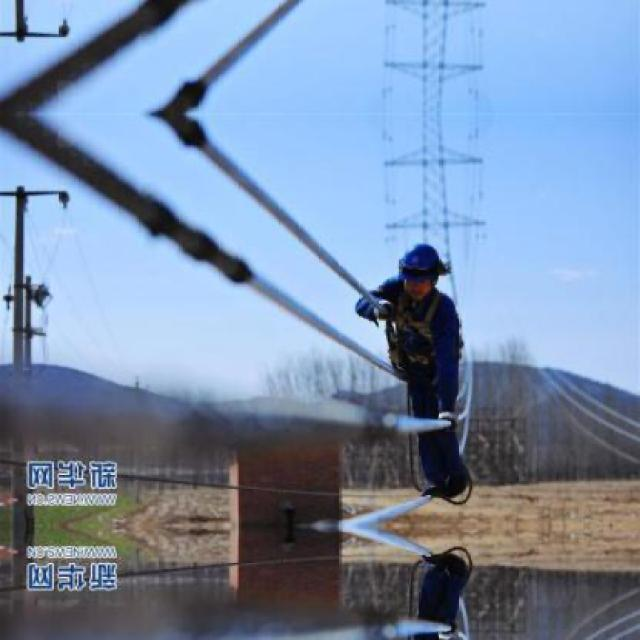con casco: (364, 205, 478, 298)
